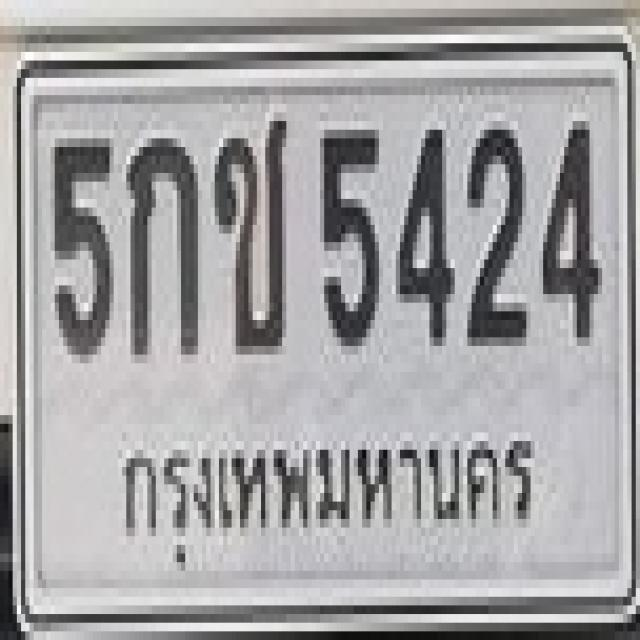license_plate: (8, 26, 640, 640)
